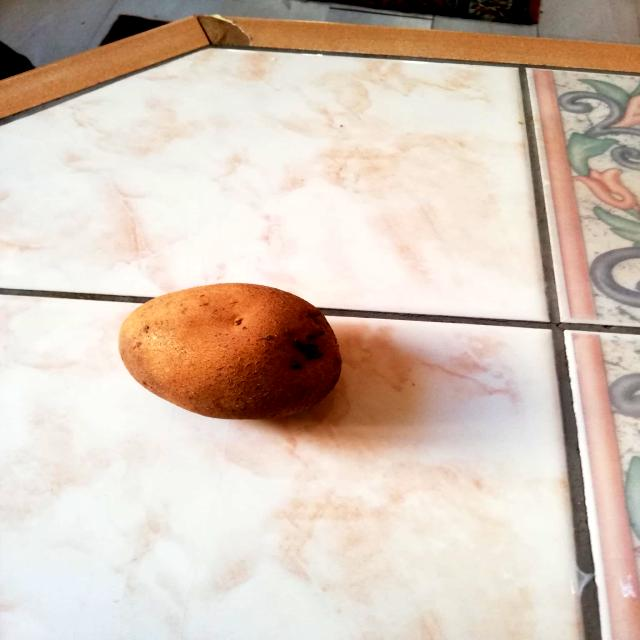potato: (111, 274, 356, 428)
